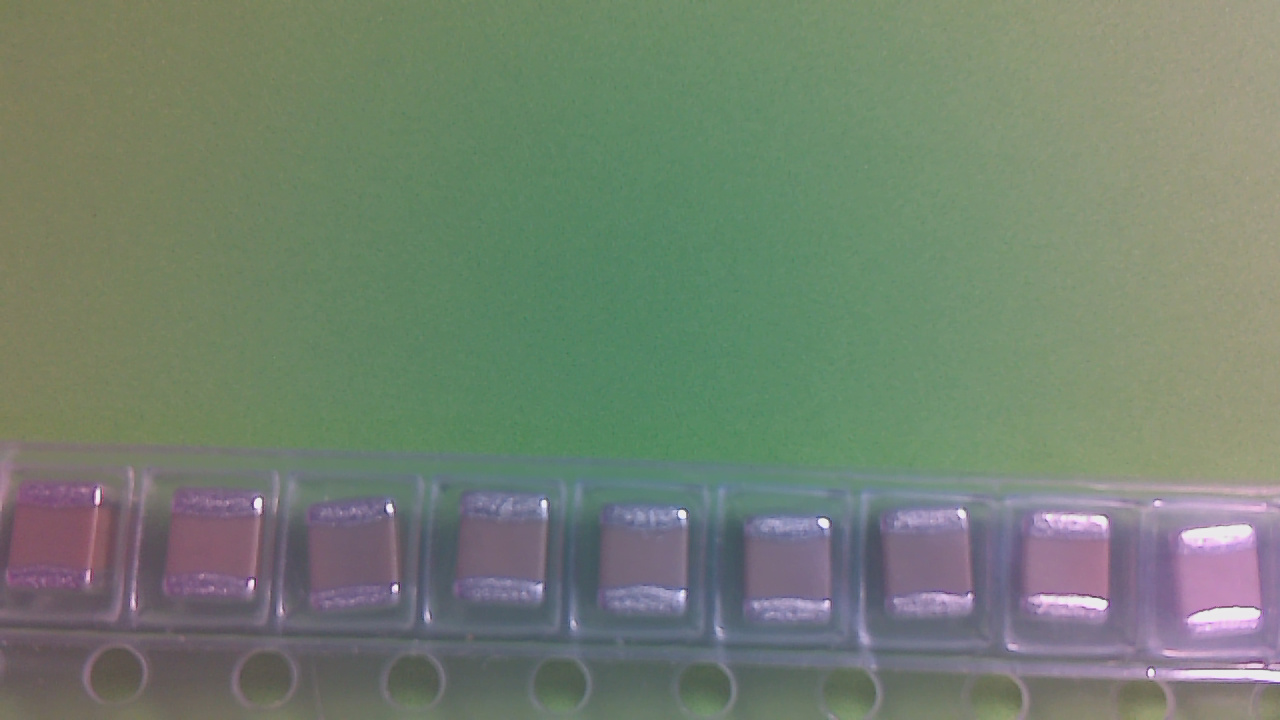Condensator: (9, 488, 109, 601), (161, 500, 268, 605), (457, 503, 555, 614), (313, 502, 407, 614), (749, 516, 839, 630), (603, 511, 695, 621), (1029, 516, 1116, 624), (889, 512, 976, 620), (1179, 531, 1263, 637)
